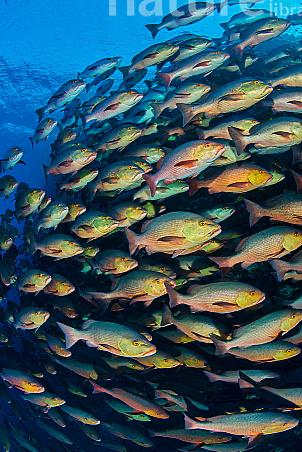Lutjanidae -Snappers-: (204, 216, 302, 280), (141, 129, 228, 199), (84, 264, 182, 320), (208, 301, 302, 356), (176, 72, 273, 125), (124, 211, 225, 258), (50, 311, 154, 355), (163, 269, 265, 313), (182, 158, 277, 200), (223, 12, 288, 62), (229, 112, 302, 152), (78, 84, 143, 128), (146, 78, 212, 121), (116, 37, 178, 81), (39, 140, 97, 186), (35, 71, 87, 122), (146, 0, 214, 37), (86, 118, 145, 151), (26, 232, 84, 263), (167, 29, 214, 64), (0, 144, 24, 178)
